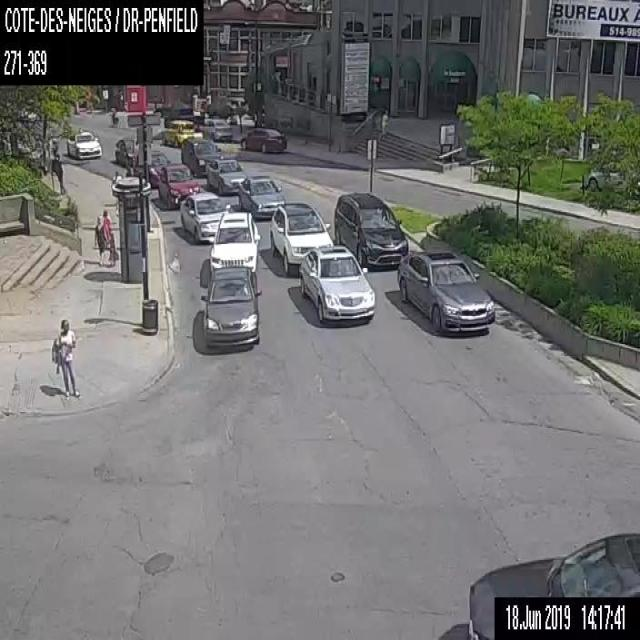pedestrian: (50, 317, 79, 396), (92, 214, 107, 265), (100, 208, 114, 260), (51, 148, 63, 193), (111, 108, 118, 125)
vehicle: (464, 529, 639, 639), (396, 248, 494, 332), (492, 593, 639, 639), (299, 244, 374, 322), (333, 191, 408, 268), (199, 265, 262, 347), (269, 200, 333, 272), (209, 211, 260, 272), (179, 191, 230, 243), (238, 173, 286, 218), (158, 162, 198, 208), (180, 136, 223, 175), (587, 160, 639, 192), (206, 155, 247, 193), (133, 148, 170, 186), (239, 123, 286, 152), (65, 128, 102, 159), (162, 118, 194, 146), (114, 136, 138, 164), (203, 117, 232, 140)
